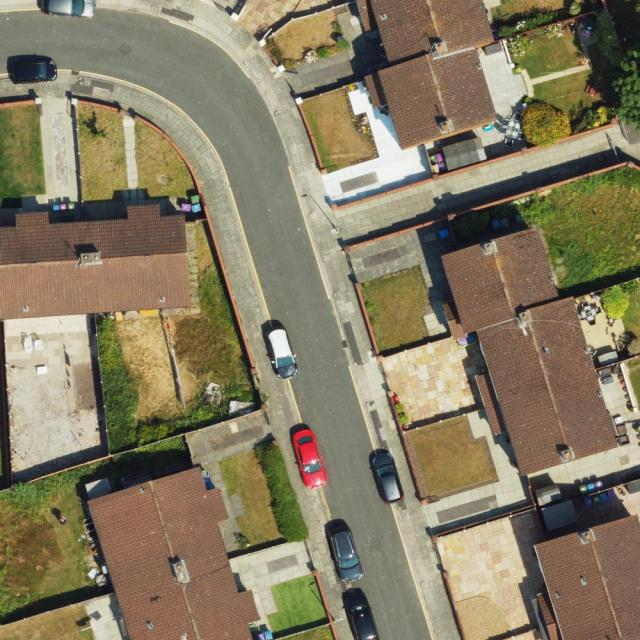roof: (442, 226, 621, 477), (88, 464, 261, 640), (351, 0, 498, 150), (2, 206, 193, 318), (533, 511, 640, 640)
